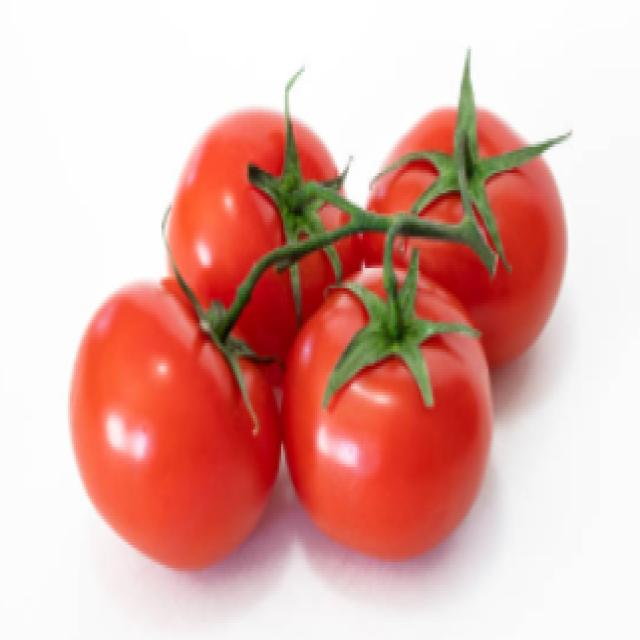Tomato: (288, 262, 480, 554), (381, 101, 565, 376)
